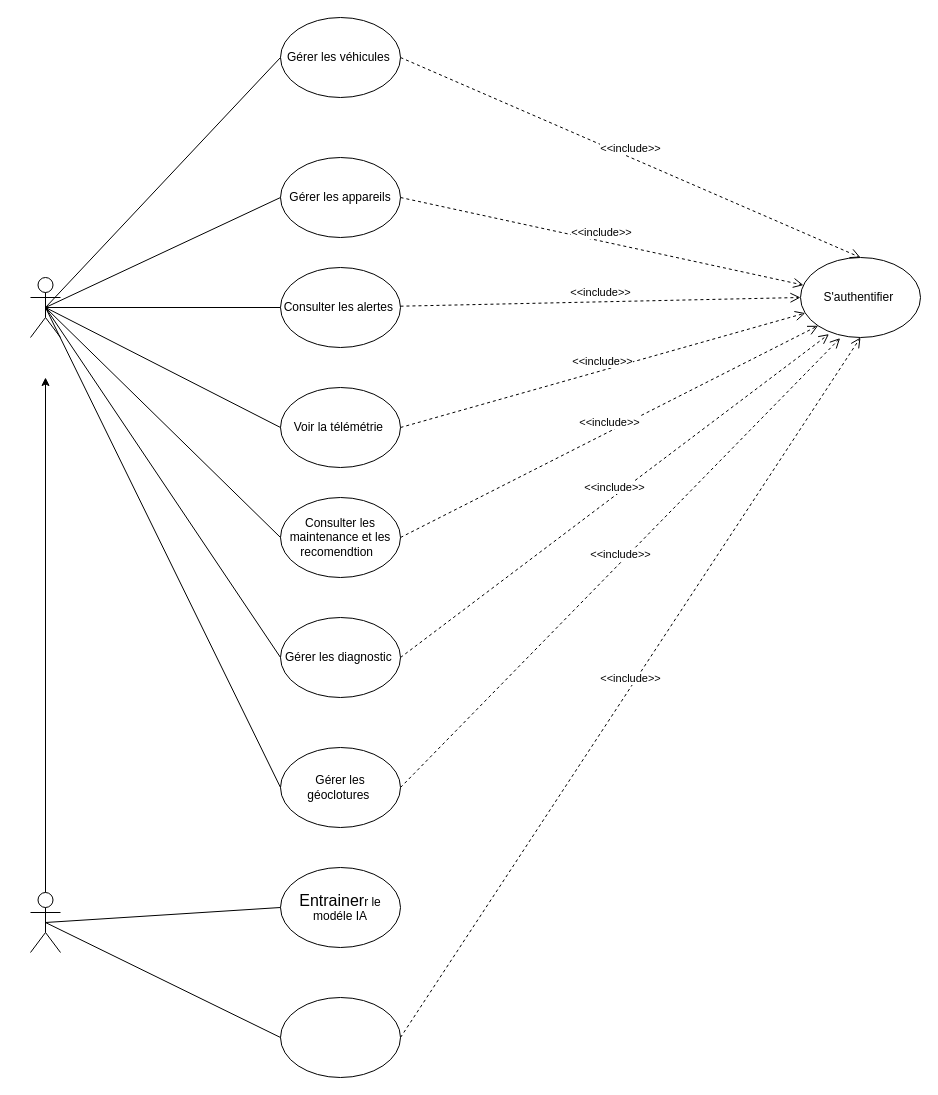
This 938x1095 diagram has some shape labels left out. Here are the shapes that lost their labels. From the top down, the box of each, then its label:
(30, 276, 60, 338): Utilisateur
(30, 892, 60, 952): Admin
(280, 996, 400, 1078): Gérer les utilisateurs
